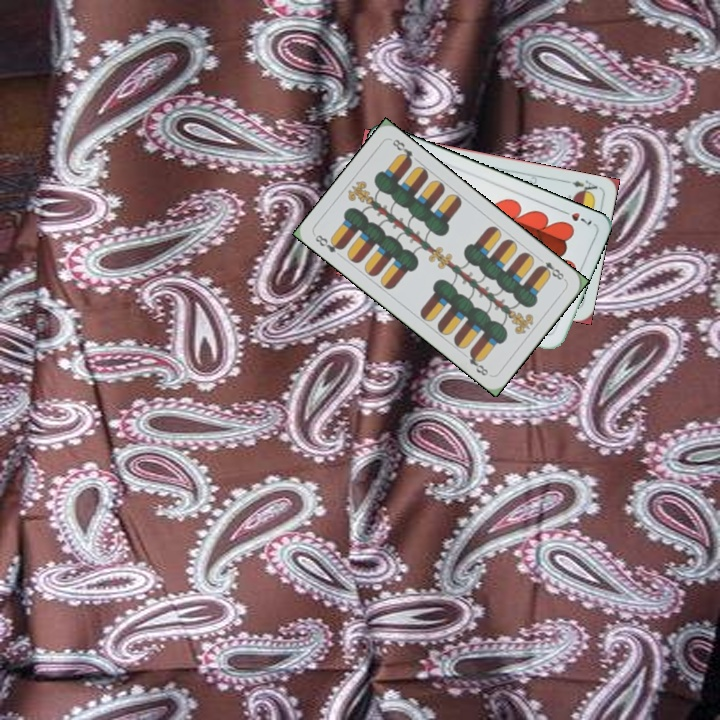E8: (534, 257, 568, 283), (311, 231, 346, 255)
EA: (561, 176, 600, 198)
H7: (557, 206, 595, 229)
